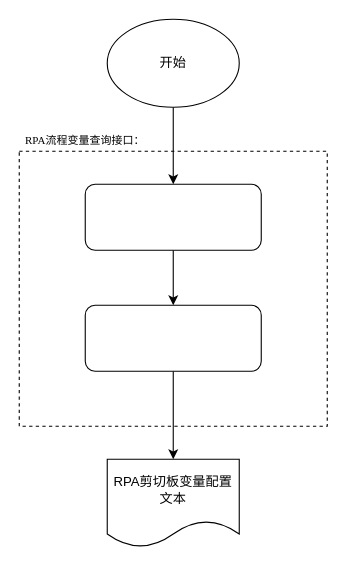
Some shapes in this 347 by 567 pixel diagram are drawn without their labels. Each missing label, with the box of its shape:
拼接标识文本，生成 “RPA剪切板变量配置文本”: (84, 304, 261, 371)
遍历获取RPA流程内全部组件变量名称及值，生成json字符: (84, 183, 261, 250)
